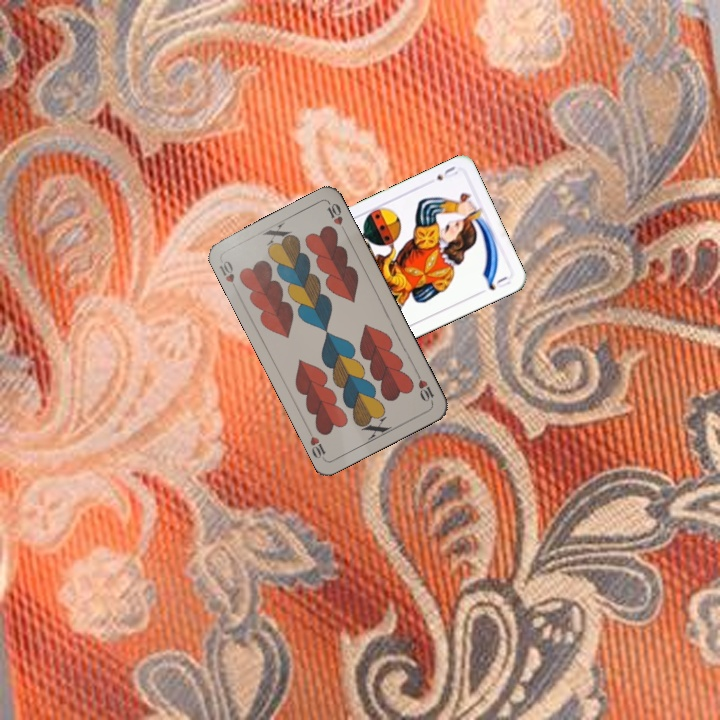H10: (215, 256, 240, 294), (412, 367, 436, 405)
SU: (432, 162, 461, 183)
